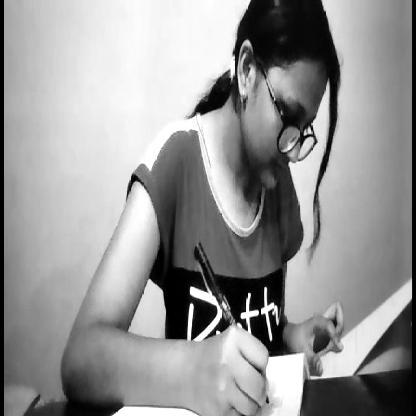Distracted: (224, 1, 343, 202)
